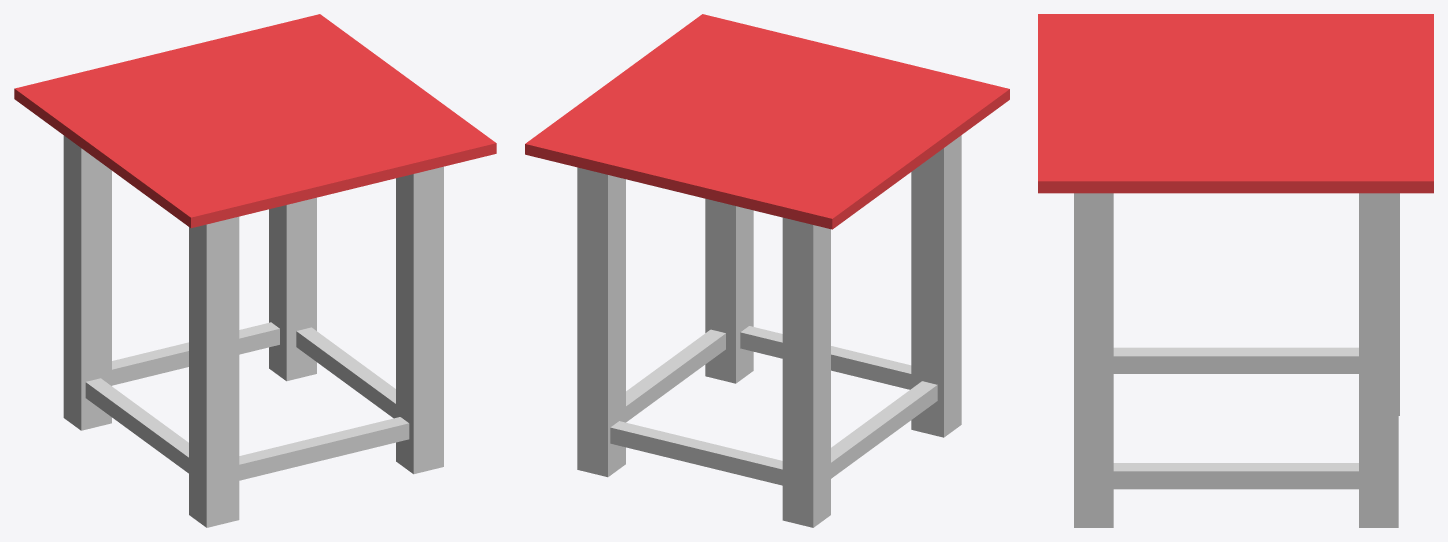
File: pod.glb
3 renders of one model, left to right at view 1: azimuth 30°, elevation 25°; view 2: azimuth 150°, elevation 25°; view 3: azimuth 270°, elevation 25°, orthographic. The views are drawn at different scales.
Parts seen in each view (by area): view 1: Cube.006, Cube, Cube.001, Cube.003, Cube.002, Cube.004, Cube.010, Cube.009, Cube.005; view 2: Cube.006, Cube.003, Cube.002, Cube, Cube.001, Cube.005, Cube.010, Cube.004, Cube.009; view 3: Cube.006, Cube.001, Cube.002, Cube.009, Cube.010.
Boxes of the visible parts, bbox=[...] form: Cube.006: bbox=[14, 14, 496, 228]; Cube: bbox=[189, 216, 239, 527]; Cube.001: bbox=[396, 166, 443, 474]; Cube.003: bbox=[63, 135, 111, 430]; Cube.002: bbox=[269, 197, 316, 381]; Cube.004: bbox=[239, 417, 409, 480]; Cube.010: bbox=[85, 378, 188, 473]; Cube.009: bbox=[296, 327, 395, 418]; Cube.005: bbox=[112, 322, 279, 385]; Cube.006: bbox=[525, 14, 1009, 229]; Cube.003: bbox=[782, 217, 830, 527]; Cube.002: bbox=[577, 167, 625, 477]; Cube: bbox=[911, 135, 961, 437]; Cube.001: bbox=[705, 198, 753, 383]; Cube.005: bbox=[610, 421, 782, 485]; Cube.010: bbox=[831, 381, 937, 478]; Cube.004: bbox=[740, 326, 911, 389]; Cube.009: bbox=[626, 329, 725, 422]; Cube.006: bbox=[1038, 14, 1433, 193]; Cube.001: bbox=[1074, 193, 1113, 527]; Cube.002: bbox=[1359, 193, 1398, 527]; Cube.009: bbox=[1113, 463, 1358, 489]; Cube.010: bbox=[1113, 347, 1358, 373].
Size of the model in its own units: 6 by 6.19 by 6.
